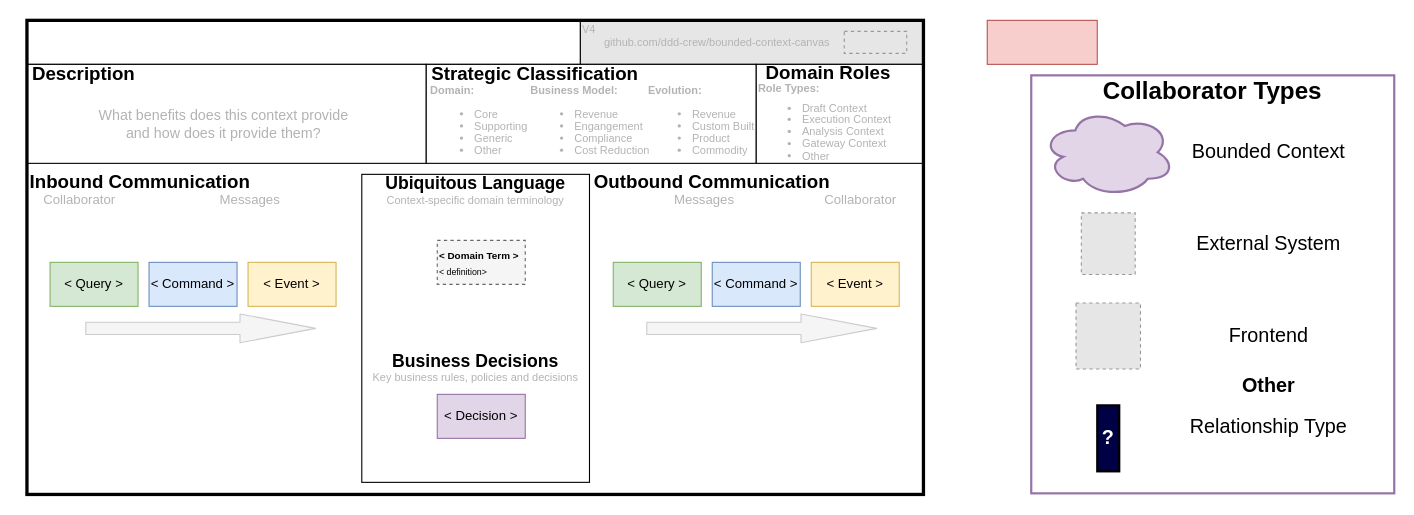
The diagram is 1414 pixels wide and 515 high, and some of its shapes have lost their labels. Grey dashed boxes stand in for pictures. The shapes that lost their labels are listed below. From the top down, each one's box as (x1, y1, x2, y2) in pixels, then its label:
(26, 19, 580, 64): Name:
(986, 19, 1097, 64): Random Post-It
